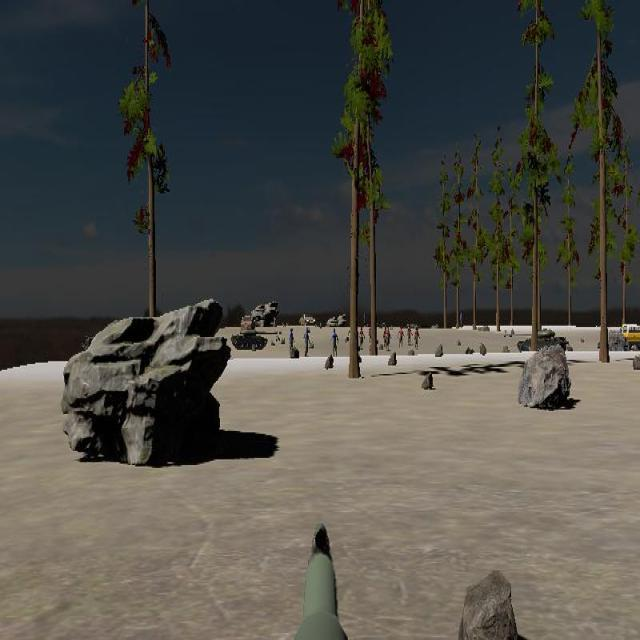Tank: (506, 326, 569, 355), (231, 328, 279, 351)
car: (620, 324, 640, 350)
